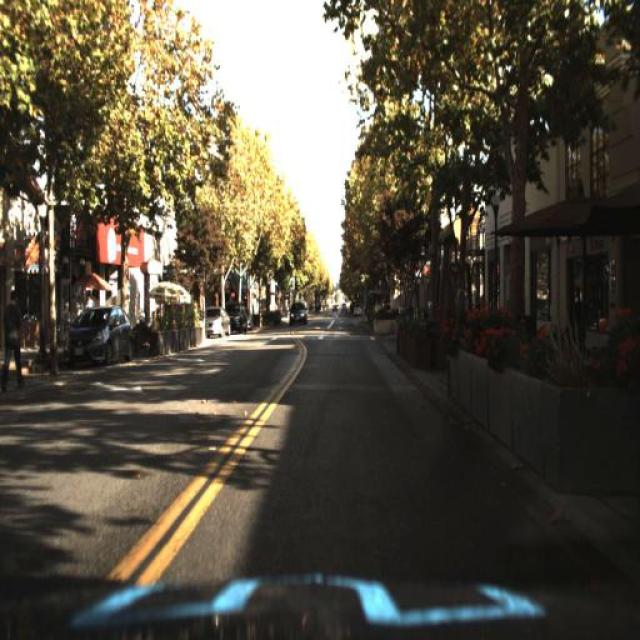car: (59, 304, 132, 365), (202, 302, 234, 338), (199, 304, 230, 338), (224, 302, 248, 338), (224, 300, 248, 336), (285, 297, 311, 325), (288, 303, 306, 326)
trafficLight: (0, 289, 25, 393)
